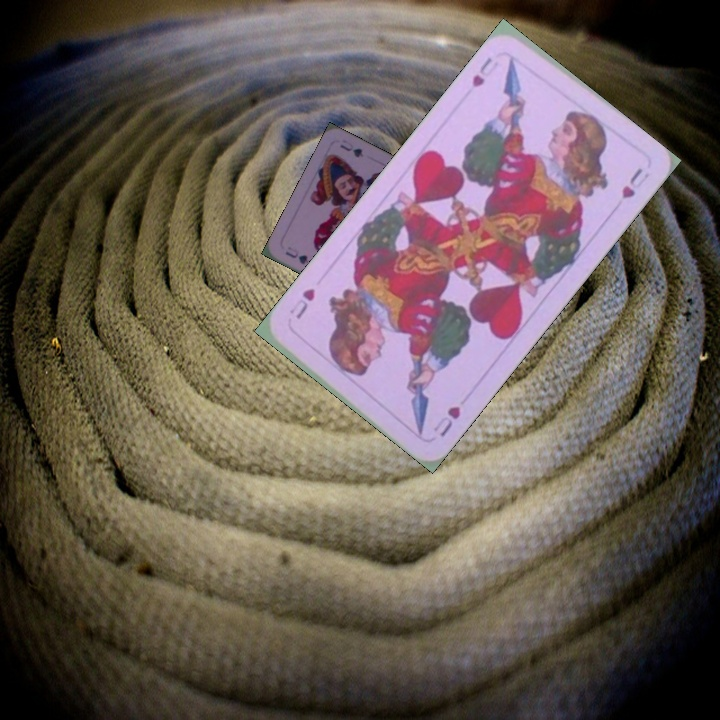GU: (281, 242, 311, 267)
HU: (467, 52, 506, 91), (429, 402, 464, 439)
